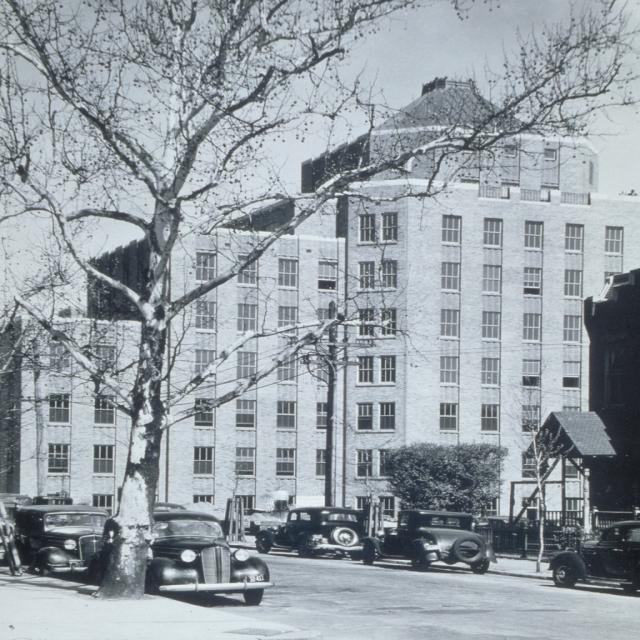car: (359, 514, 494, 574), (257, 507, 363, 553)
